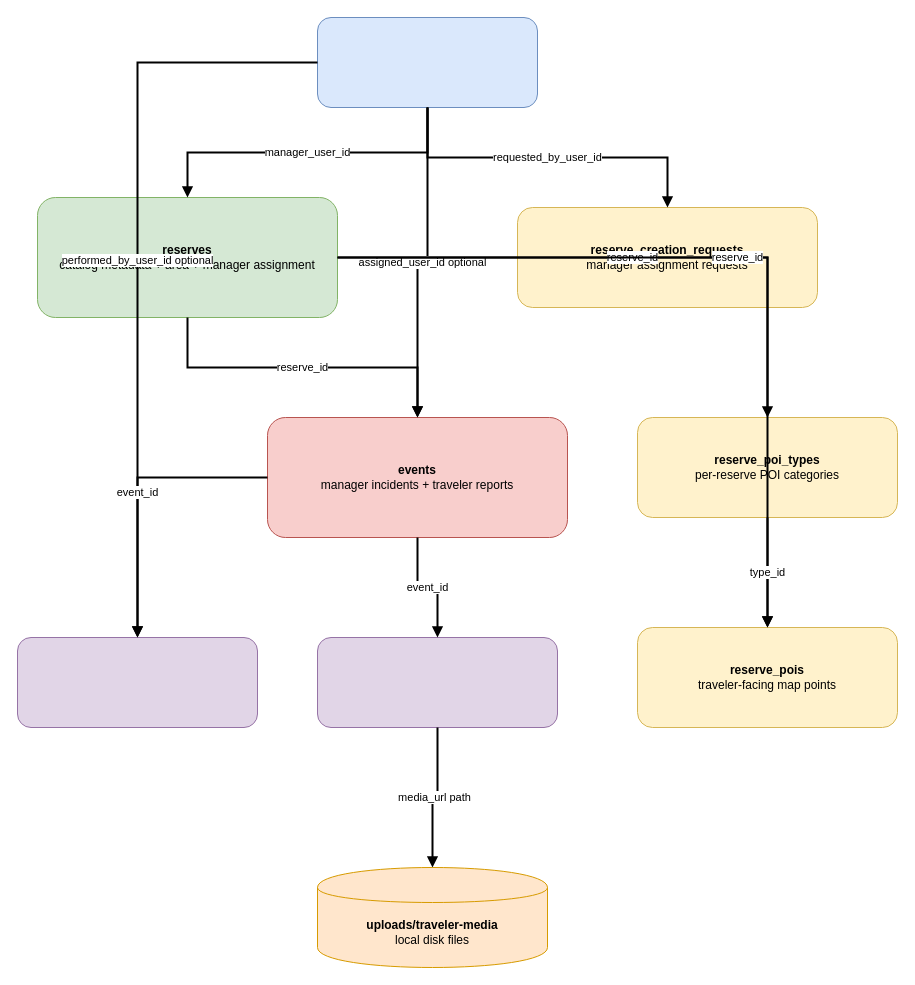
Some shapes in this 915 by 985 pixel diagram are drawn without their labels. The centre of each missing label's shape, as x and y in pixels:
event_logs audit trail: point (137, 682)
event_media attachment metadata: point (437, 682)
users admins and managers: point (427, 62)
